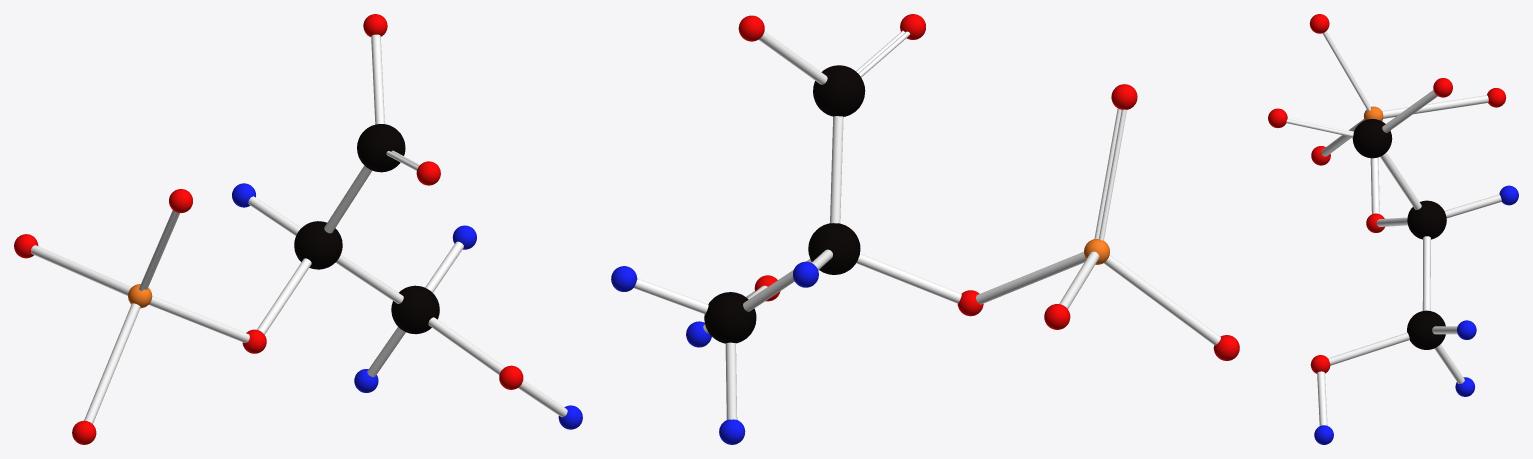
The model's file is 2-phosphoglycerate_color.fbx.
3 views of the same model, side by side, from view 1: azimuth 30°, elevation 25°; view 2: azimuth 150°, elevation 25°; view 3: azimuth 270°, elevation 25° (orthographic). The views are drawn at different scales.
Parts seen in each view (by area): view 1: Atom6_Clone__2, Atom6_Clone_, Atom6_Clone__1, Bond1_Clone__2, Bond1_Clone__1, Bond1_Clone_, Bond1_Clone__8, Bond1_Clone__4, Bond1_Clone__3, Bond1_Clone__10, Bond1_Clone__11, Bond1_Clone__12 (+3 smaller); view 2: Atom6_Clone__2, Atom6_Clone__1, Atom6_Clone_, Bond1_Clone__2, Bond1_Clone_, Bond1_Clone__3, Bond1_Clone__11, Bond1_Clone__8, Bond1_Clone__14, Bond1_Clone__13, Bond2B, Bond1_Clone__1 (+2 smaller); view 3: Atom6_Clone__2, Atom6_Clone_, Atom6_Clone__1, Bond1_Clone__1, Bond1_Clone__4, Bond1_Clone__10, Bond1_Clone__11, Bond1_Clone__8, Bond1_Clone__12, Bond1_Clone_, Bond1_Clone__5, Bond2A (+15 smaller).
Boxes of the visible parts, x1,y1,x2,y2 form: Atom6_Clone__2: (357,124,405,172); Atom6_Clone_: (294,221,342,269); Atom6_Clone__1: (391,285,439,334); Bond1_Clone__2: (84,303,140,423); Bond1_Clone__1: (31,245,131,295); Bond1_Clone_: (149,296,249,342); Bond1_Clone__8: (371,34,384,124); Bond1_Clone__4: (428,317,504,374); Bond1_Clone__3: (257,258,311,334); Bond1_Clone__10: (336,254,403,303); Bond1_Clone__11: (324,165,371,233); Bond1_Clone__12: (248,196,300,235); Atom6_Clone__2: (813,65,865,116); Atom6_Clone__1: (704,292,756,343); Atom6_Clone_: (808,223,860,274); Bond1_Clone__2: (1104,255,1220,345); Bond1_Clone_: (976,251,1086,304); Bond1_Clone__3: (856,253,961,303); Bond1_Clone__11: (830,116,843,223); Bond1_Clone__8: (758,31,827,84); Bond1_Clone__14: (725,342,737,419); Bond1_Clone__13: (634,278,708,314); Bond2B: (1099,109,1126,240); Bond1_Clone__1: (1059,251,1099,308); Atom6_Clone__2: (1352,119,1392,158); Atom6_Clone_: (1407,200,1446,239); Atom6_Clone__1: (1407,310,1445,349); Bond1_Clone__1: (1382,95,1488,118); Bond1_Clone__4: (1328,332,1409,365); Bond1_Clone__10: (1422,236,1430,310); Bond1_Clone__11: (1380,152,1421,209); Bond1_Clone__8: (1382,90,1437,132); Bond1_Clone__12: (1444,194,1501,218); Bond1_Clone_: (1370,157,1379,213); Bond1_Clone__5: (1317,371,1327,425); Bond2A: (1322,31,1370,111).
Bounding box in the file's own units: 605 × 442 × 317.
